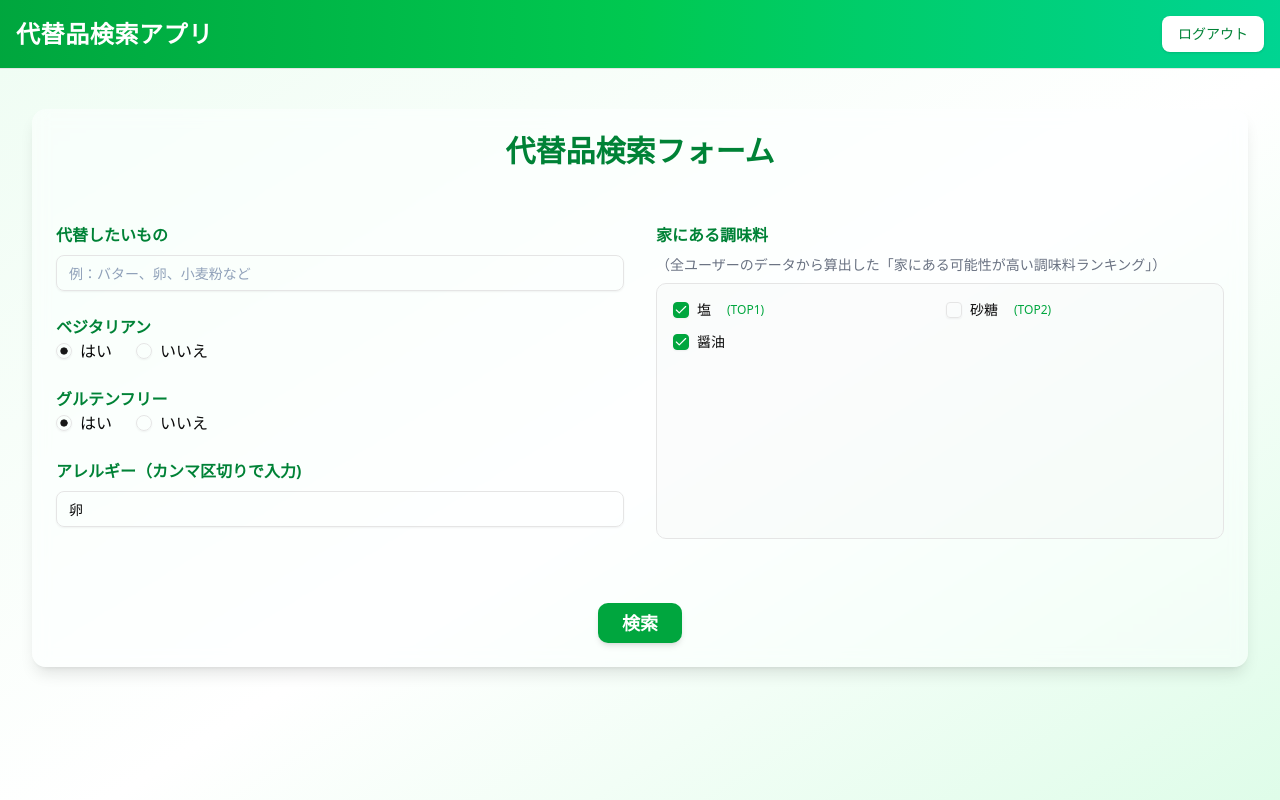
it: 代替品検索画面 › 検索した内容が履歴に追加される
Type "バター" into the field labelled "代替したいもの". click: (340, 273)
box: [56,255,624,291]
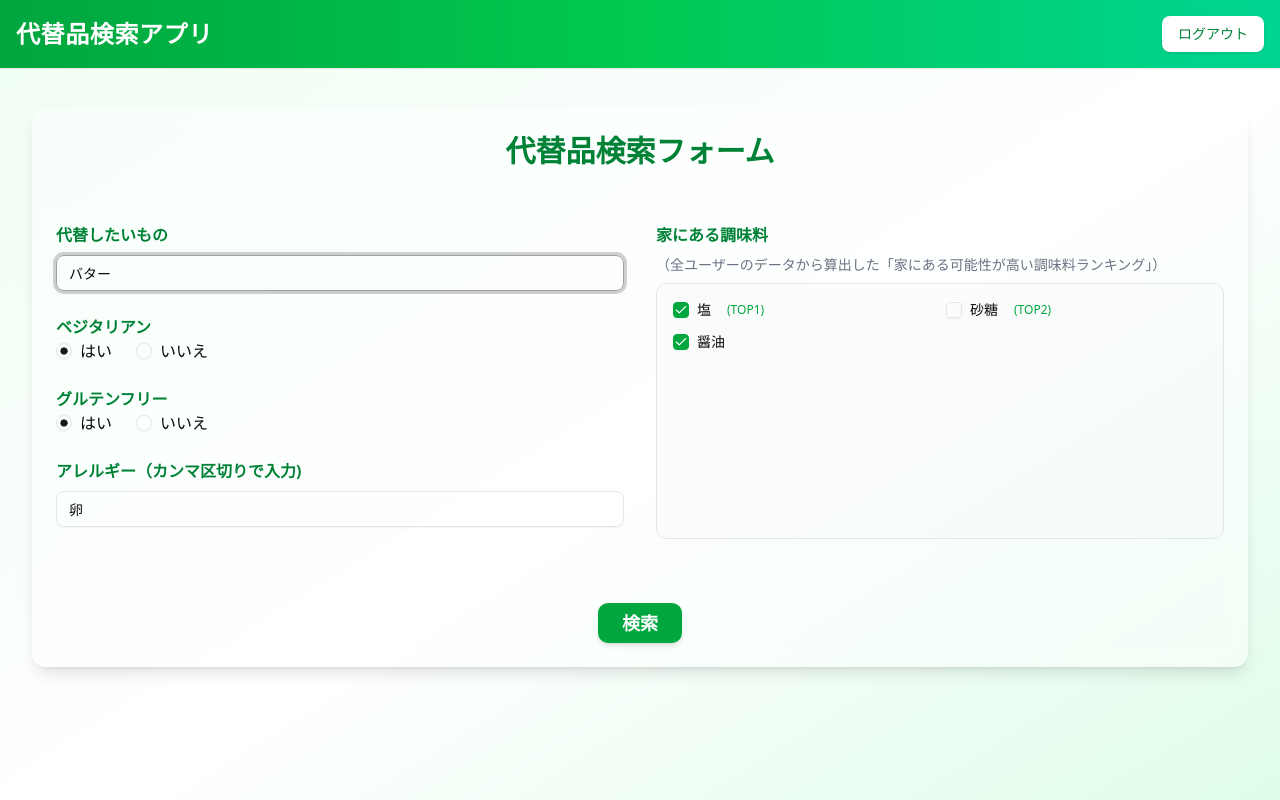
Click the button "検索". click: (640, 623)
box: [598,603,682,643]
(page scrolled)
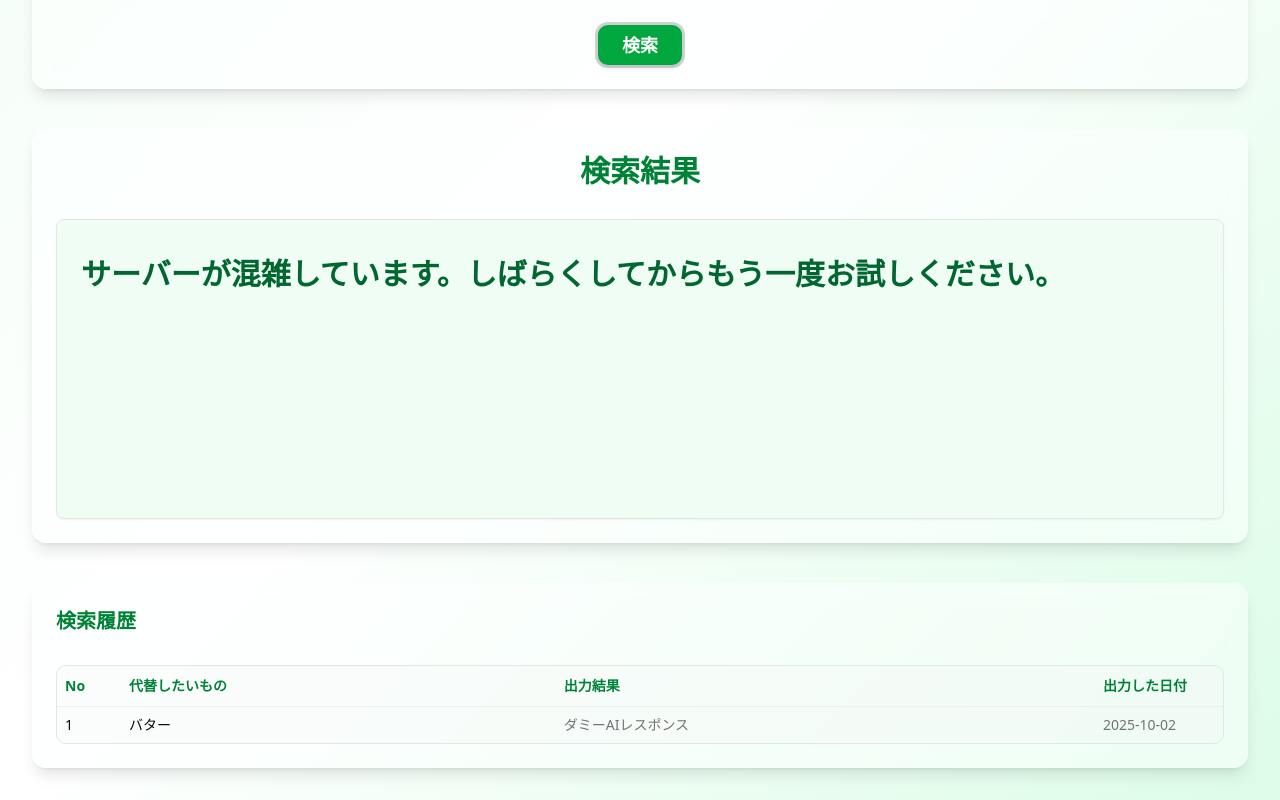
Result: the text "バター" is shown at [121,706,556,742]
Result: the text "ダミーAIレスポンス" is shown at [564,714,689,734]
